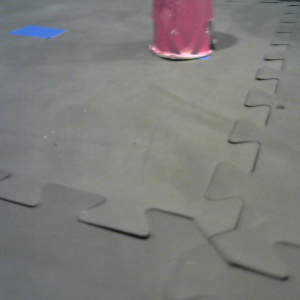Right: (147, 1, 219, 59)
